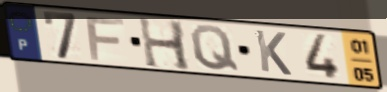4: (303, 32, 343, 82)
7: (41, 10, 80, 62)
F: (84, 16, 128, 63)
H: (136, 15, 194, 73)
K: (252, 28, 294, 78)
Q: (188, 23, 242, 73)
